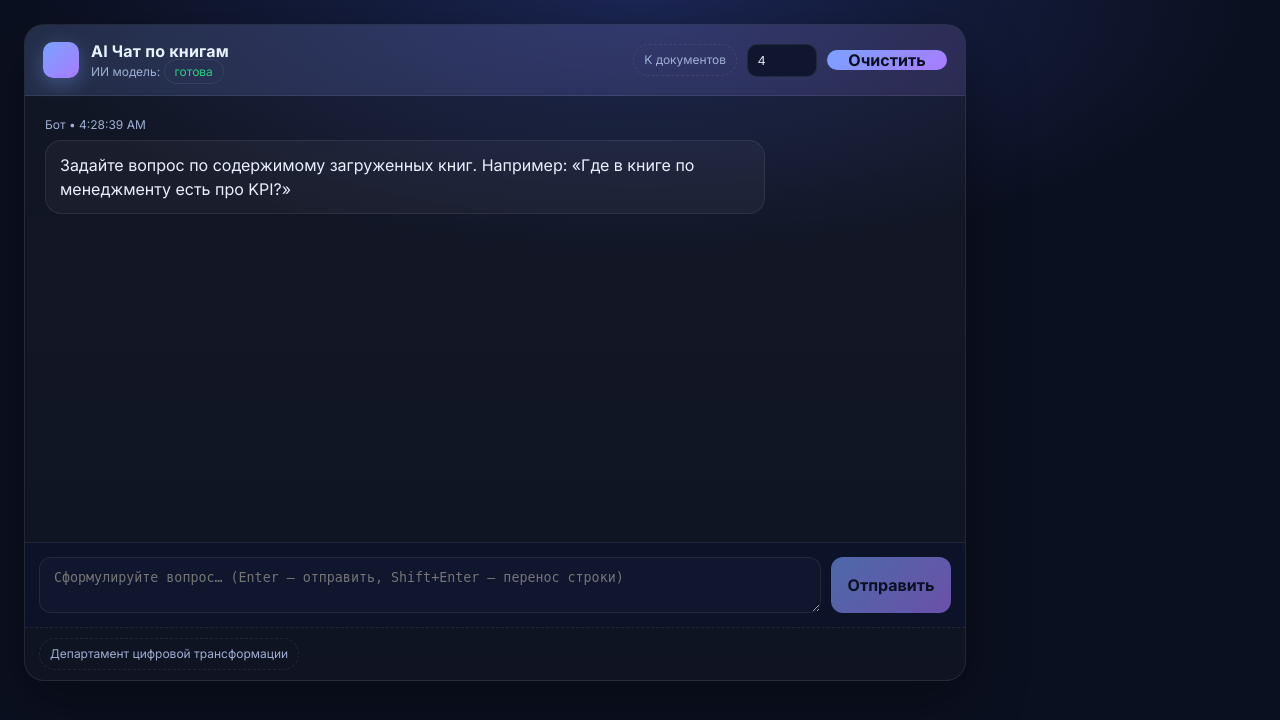
Test case: Pretty Chat UI › shows error bubble on API failure
This screenshot has width=1280, height=720.
Replace the text in the text box with placeholder "Сформулируйте вопрос… (Enter — отправить, Shift+Enter — перенос строки)" with "oops": (430, 585) 39,557 -> 821,613
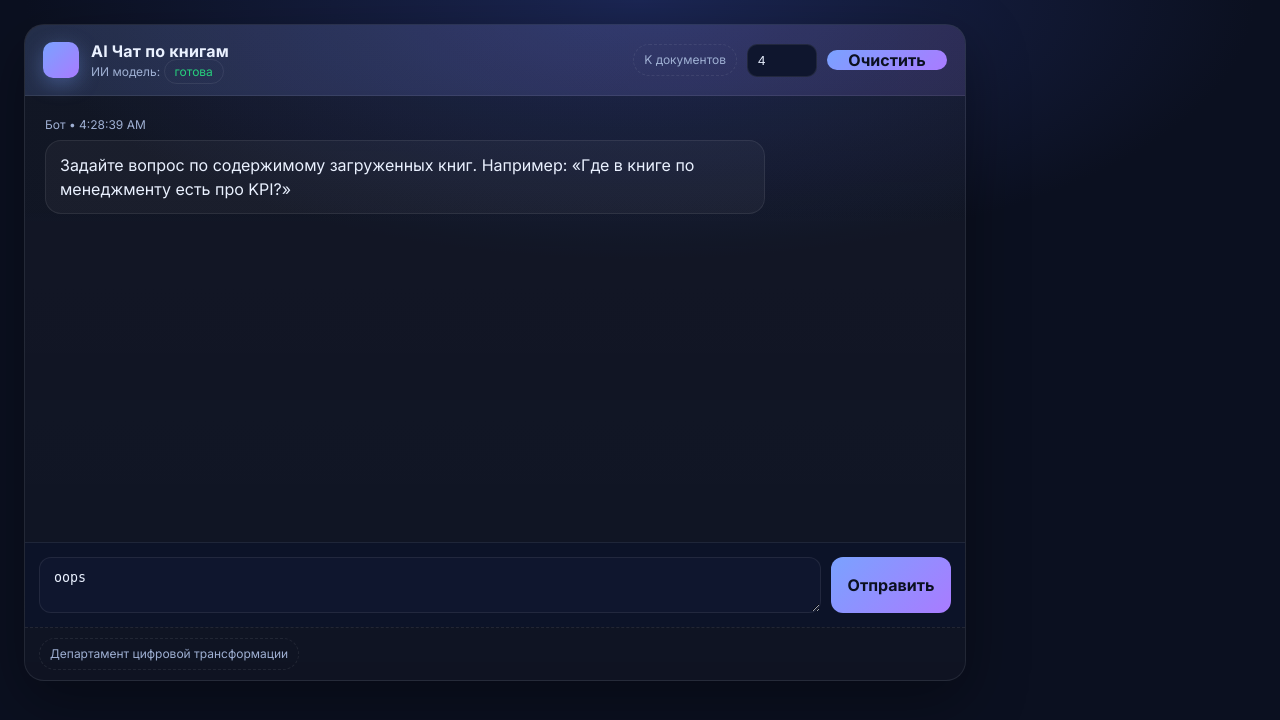
Press Enter in the text box with placeholder "Сформулируйте вопрос… (Enter — отправить, Shift+Enter — перенос строки)", box 39,557 -> 821,613
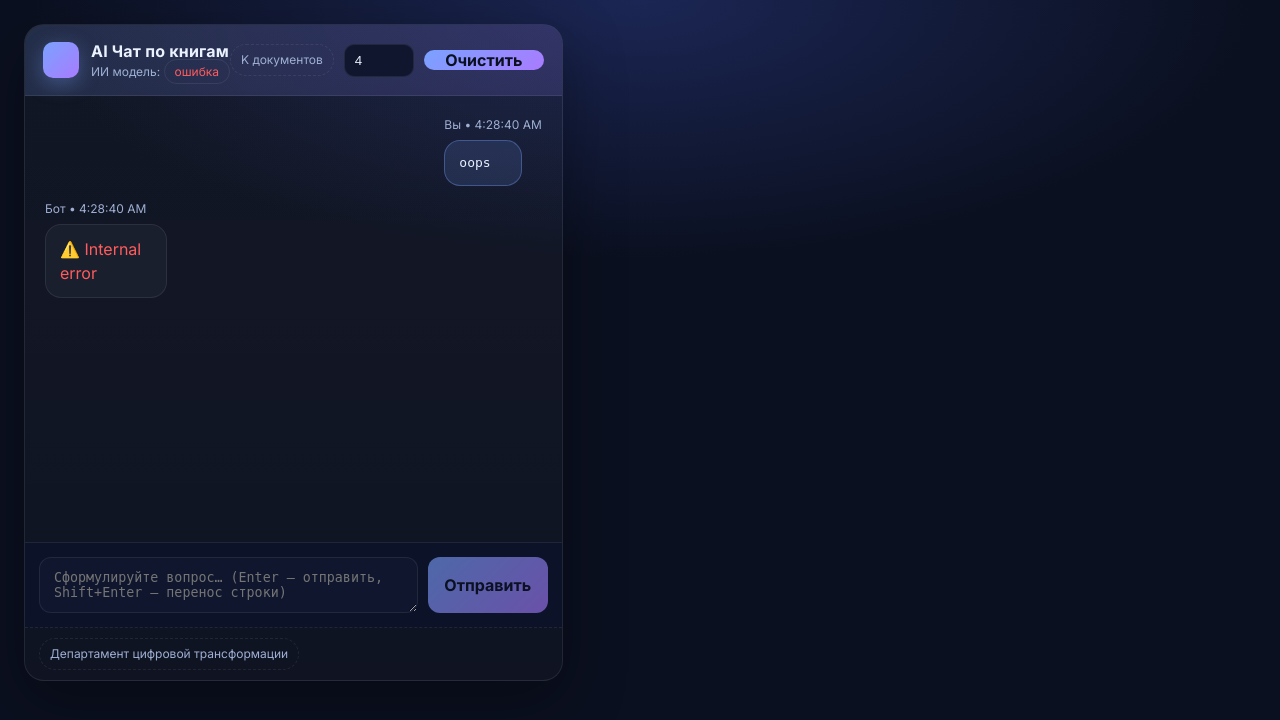
Expected: the text "⚠️ Internal error" is shown, 60,236 -> 152,284
